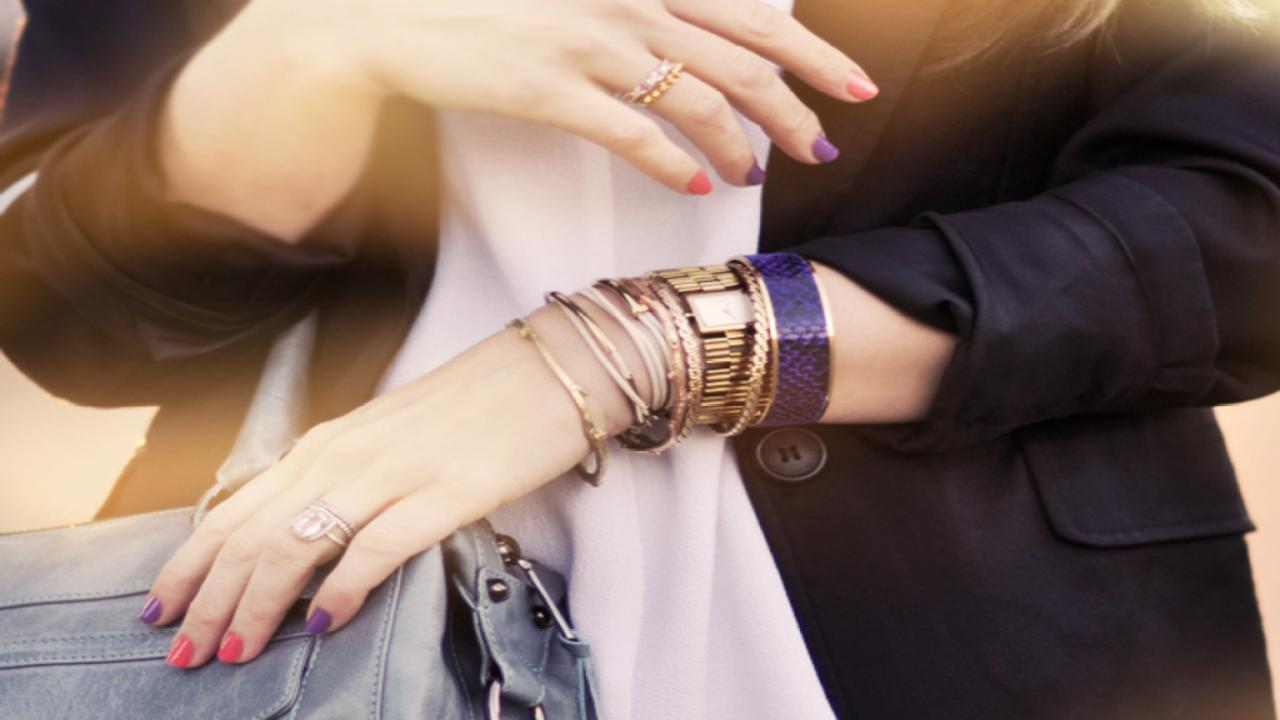ring: (292, 502, 352, 547), (628, 59, 684, 106)
